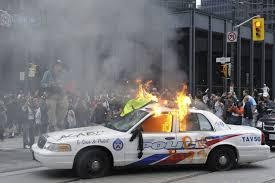fire: (120, 79, 192, 133)
